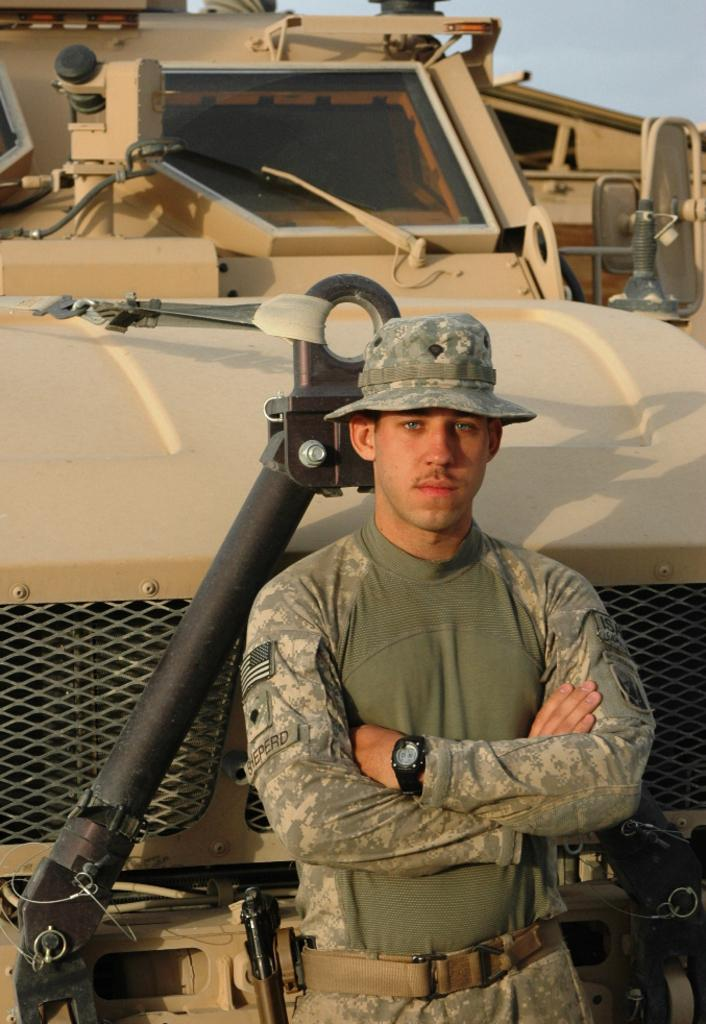Hat: (321, 312, 533, 424)
